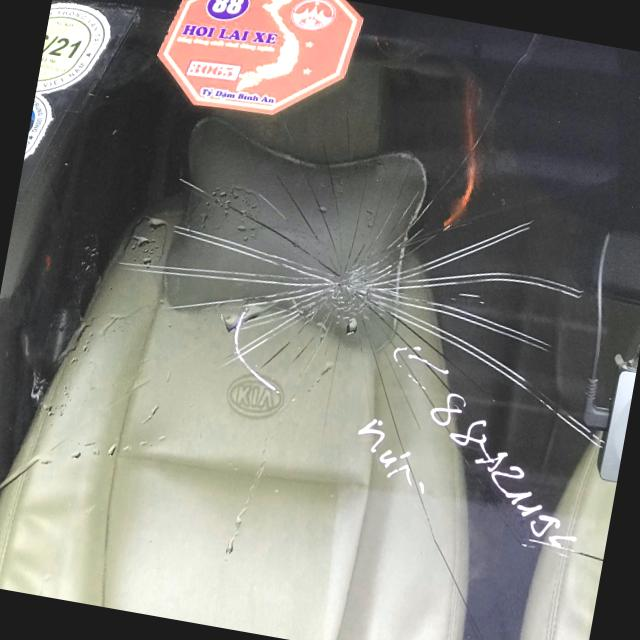Fissure: (106, 106, 605, 434), (107, 160, 339, 330), (367, 190, 588, 337), (376, 303, 621, 435)
